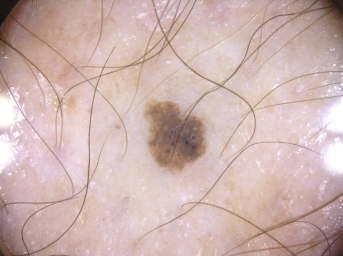seborrheic keratosis: (117, 90, 227, 182)
